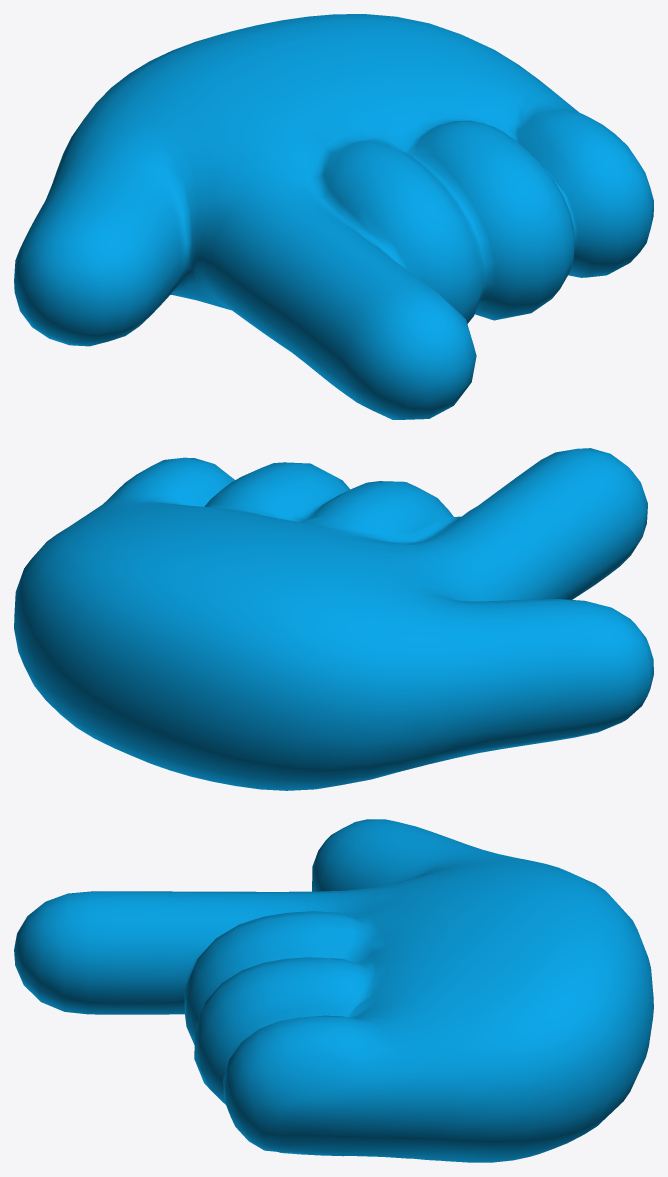
Rendered from IndexFinger.fbx.
3 renders of one model, top to bottom at view 1: azimuth 30°, elevation 25°; view 2: azimuth 150°, elevation 25°; view 3: azimuth 270°, elevation 25°, orthographic. The views are drawn at different scales.
Visible parts, largest first — view 1: Retopo_material.001; view 2: Retopo_material.001; view 3: Retopo_material.001.
Part boxes in pixels (x1,y1,x2,y2): Retopo_material.001: [14, 14, 653, 419]; Retopo_material.001: [14, 448, 653, 790]; Retopo_material.001: [14, 819, 653, 1162].
Bounding box in the file's own units: 1.03 × 1.07 × 0.3938.
